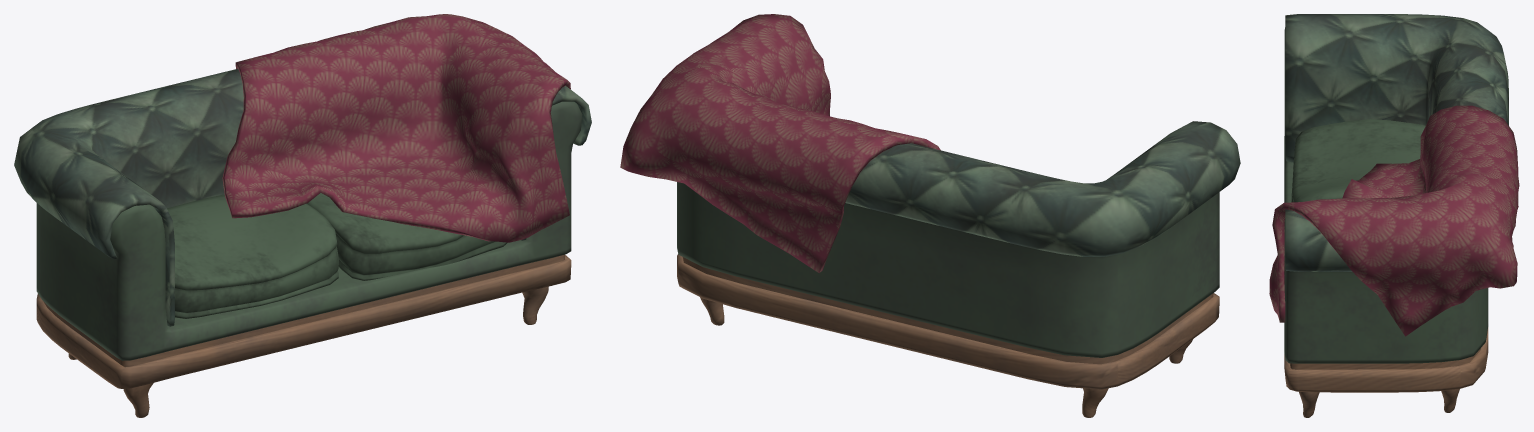
Rendered from sofa_big.fbx.
3 renders of one model, left to right at view 1: azimuth 30°, elevation 25°; view 2: azimuth 150°, elevation 25°; view 3: azimuth 270°, elevation 25°, orthographic. The views are drawn at different scales.
Parts seen in each view (by area): view 1: sofa_big, sofa_big_fabric, sofa_big_pillow, sofa_big_pillow.001; view 2: sofa_big, sofa_big_fabric; view 3: sofa_big, sofa_big_fabric, sofa_big_pillow.
Part boxes in pixels (<box>): sofa_big: <box>14,68,591,417</box>; sofa_big_fabric: <box>222,14,570,242</box>; sofa_big_pillow: <box>167,194,338,318</box>; sofa_big_pillow.001: <box>307,193,507,280</box>; sofa_big: <box>677,121,1240,417</box>; sofa_big_fabric: <box>620,14,940,272</box>; sofa_big: <box>1284,14,1508,417</box>; sofa_big_fabric: <box>1269,105,1519,336</box>; sofa_big_pillow: <box>1291,119,1425,202</box>.
Bounding box in the file's own units: 200 × 95.54 × 94.27.
